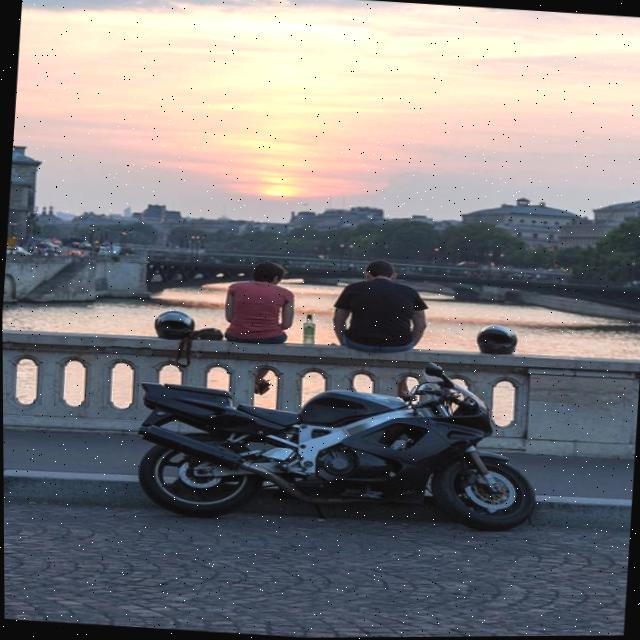motorcycle: (124, 334, 554, 547)
